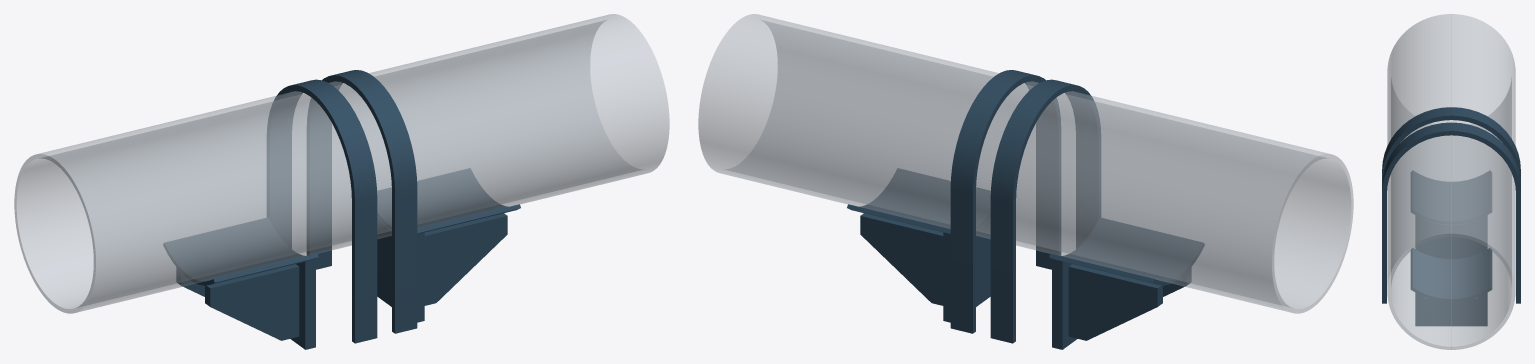
Rendered from TS-669.00.00-16-opora-dn159-ris2.glb.
The picture shows the model from 3 angles, left to right: view 1: azimuth 30°, elevation 25°; view 2: azimuth 150°, elevation 25°; view 3: azimuth 270°, elevation 25°; orthographic projection. The views are drawn at different scales.
Parts seen in each view (by area): view 1: truba, homut_9, homut_10, upor_8, upor_6, upor_2, upor_4, upor_1, upor_5; view 2: truba, homut_9, homut_10, upor_8, upor_7, upor_3, upor_4, upor_1, upor_5; view 3: truba, upor_4, upor_8, homut_9, upor_5, homut_10, upor_1, upor_2, upor_3.
Part boxes in pixels (x1,y1,x2,y2): truba: [14, 14, 669, 313]; homut_9: [306, 70, 417, 333]; homut_10: [267, 79, 377, 343]; upor_8: [163, 218, 318, 285]; upor_6: [205, 264, 299, 340]; upor_2: [424, 213, 507, 305]; upor_4: [377, 168, 520, 233]; upor_1: [377, 217, 424, 322]; upor_5: [290, 259, 315, 349]; truba: [698, 14, 1353, 313]; homut_9: [950, 70, 1061, 333]; homut_10: [990, 79, 1100, 343]; upor_8: [1049, 218, 1204, 285]; upor_7: [1068, 264, 1162, 340]; upor_3: [860, 213, 943, 305]; upor_4: [847, 168, 990, 233]; upor_1: [943, 217, 990, 322]; upor_5: [1052, 259, 1077, 349]; truba: [1387, 14, 1515, 349]; upor_4: [1410, 248, 1492, 301]; upor_8: [1411, 171, 1491, 224]; homut_9: [1382, 122, 1520, 303]; upor_5: [1415, 216, 1487, 259]; homut_10: [1382, 107, 1520, 183]; upor_1: [1415, 293, 1487, 326]; upor_2: [1425, 297, 1432, 325]; upor_3: [1470, 297, 1477, 325].
Bounding box in the file's own units: 644 × 252 × 172.
